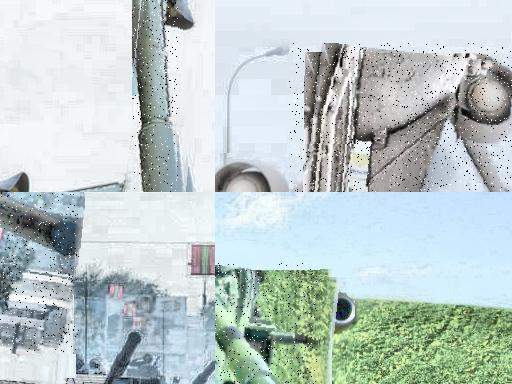tanks: (306, 44, 512, 193), (216, 265, 307, 384), (134, 1, 179, 193), (103, 332, 160, 384), (193, 362, 216, 384)
